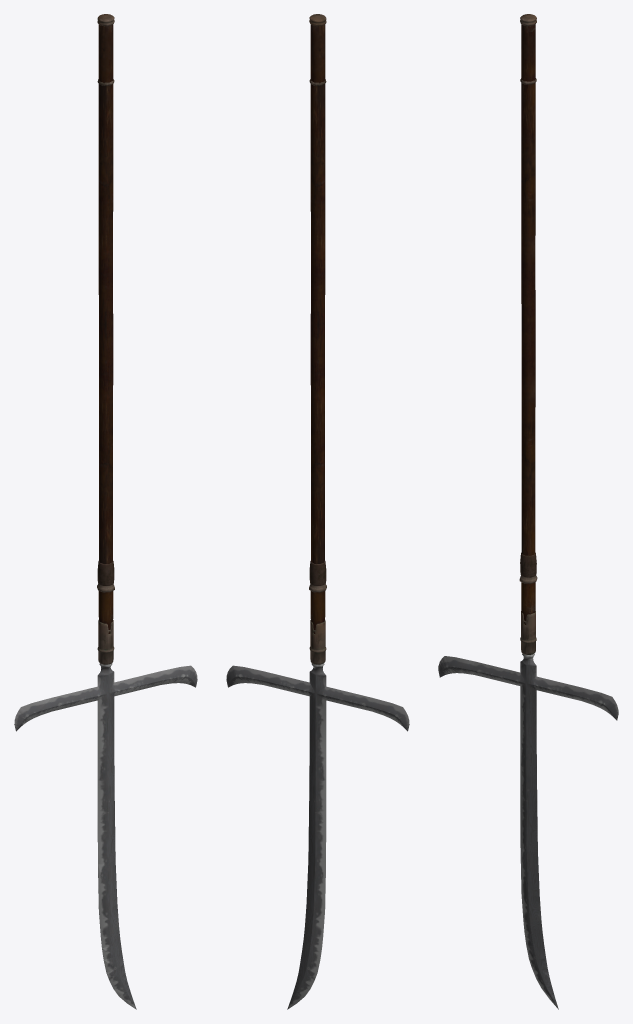
The model's file is le_pd_crossnaginata.glb.
The picture shows the model from 3 angles, left to right: view 1: azimuth 30°, elevation 25°; view 2: azimuth 150°, elevation 25°; view 3: azimuth 330°, elevation 25°; orthographic projection.
Parts seen in each view (by area): view 1: CrossNaginata; view 2: CrossNaginata; view 3: CrossNaginata.
Boxes of the visible parts, x1=… form: CrossNaginata: x1=14, y1=14, x2=197, y2=1009; CrossNaginata: x1=226, y1=14, x2=409, y2=1009; CrossNaginata: x1=438, y1=14, x2=618, y2=1009.
Bounding box in the file's own units: 31.65 × 165 × 2.78.
1 material, 1 textured.
